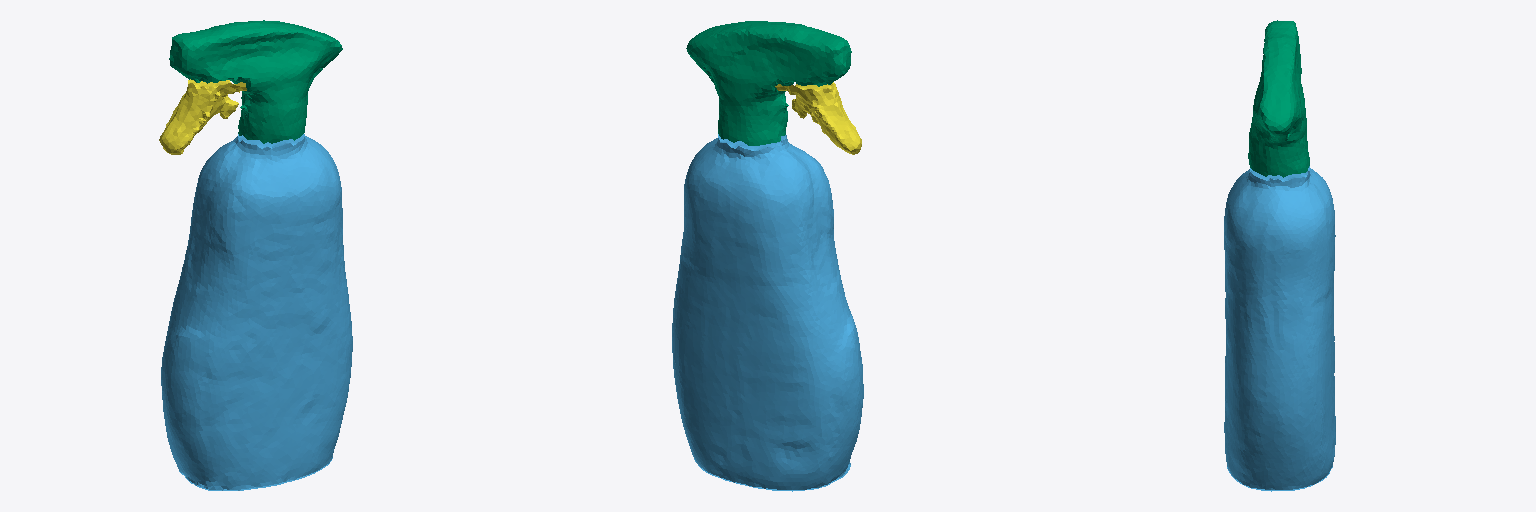
URDF robot description (object):
<?xml version='1.0' encoding='utf-8'?>
<robot name="object">
  <link name="base">
    <inertial>
      <origin xyz="0 0 0" rpy="0 0 0" />
      <mass value="0.0" />
      <inertia ixx="0" ixy="0" ixz="0" iyy="0" iyz="0" izz="0" />
    </inertial>
  </link>
  <link name="link_1">
    <visual>
      <origin xyz="0 0 0" rpy="0 0 0" />
      <geometry>
        <mesh filename="meshes/link_1.stl" />
      </geometry>
    </visual>
    <collision>
      <origin xyz="0 0 0" rpy="0 0 0" />
      <geometry>
        <mesh filename="meshes/link_1.stl" />
      </geometry>
    </collision>
    <inertial>
      <origin xyz="0.0173071256 -0.00129664342 0.316234422" rpy="0 0 0" />
      <mass value="43.5358565" />
      <inertia ixx="-0.325437105" ixy="0.00277721587" ixz="-0.00704071024" iyy="-0.121403717" iyz="0.000782956687" izz="0.506822194" />
    </inertial>
  </link>
  <link name="link_2">
    <visual>
      <origin xyz="-0.0441173237 0.00179261475 -0.706526953" rpy="0 0 0" />
      <geometry>
        <mesh filename="meshes/link_2.stl" />
      </geometry>
    </visual>
    <collision>
      <origin xyz="-0.0441173237 0.00179261475 -0.706526953" rpy="0 0 0" />
      <geometry>
        <mesh filename="meshes/link_2.stl" />
      </geometry>
    </collision>
    <inertial>
      <origin xyz="-0.019680273 -0.000944987298 3.68021151" rpy="0 0 0" />
      <mass value="3.69457185" />
      <inertia ixx="-21362.3658" ixy="0.000688798082" ixz="7.36049386" iyy="-21362.3466" iyz="0.046448535" izz="0.0246359082" />
    </inertial>
  </link>
  <link name="link_3">
    <visual>
      <origin xyz="0.0553239949 0.00216212618 -0.846435305" rpy="0 0 0" />
      <geometry>
        <mesh filename="meshes/link_3.stl" />
      </geometry>
    </visual>
    <collision>
      <origin xyz="0.0553239949 0.00216212618 -0.846435305" rpy="0 0 0" />
      <geometry>
        <mesh filename="meshes/link_3.stl" />
      </geometry>
    </collision>
    <inertial>
      <origin xyz="-0.069165509 0.00127877611 -0.0516825515" rpy="0 0 0" />
      <mass value="0.524493621" />
      <inertia ixx="0.000765516748" ixy="2.05392781e-05" ixz="-0.000457520652" iyy="0.00128942165" iyz="-7.2314641e-07" izz="0.000816878989" />
    </inertial>
  </link>
  <joint name="joint_1_2" type="revolute">
    <parent link="link_1" />
    <child link="link_2" />
    <origin xyz="0.0441173237 -0.00179261475 0.706526953" rpy="0 0 0" />
    <axis xyz="0.00672504529 0.00165376553 -0.999976019" />
    <limit lower="-1.57" upper="1.57" effort="10.0" velocity="1.0" />
  </joint>
  <joint name="joint_2_3" type="revolute">
    <parent link="link_2" />
    <child link="link_3" />
    <origin xyz="-0.0994413185 -0.000369511423 0.139908352" rpy="0 0 0" />
    <axis xyz="-0.00965232704 0.999945316 0.00402450058" />
    <limit lower="-1.57" upper="1.57" effort="10.0" velocity="1.0" />
  </joint>
  <joint name="base_to_1" type="fixed">
    <parent link="base" />
    <child link="link_1" />
    <origin xyz="0 0 0" rpy="0 0 0" />
  </joint>
</robot>

--- Facts derived from the render (not from the file) ---
Views: 3 orthographic renders of the robot side by side, from view 1: azimuth 30°, elevation 25°; view 2: azimuth 150°, elevation 25°; view 3: azimuth 270°, elevation 25°.
Robot: object — 4 links, 3 joints (2 revolute, 1 fixed); root link base; default pose: all joints at 0.
Visible links, largest first — view 1: link_1, link_2, link_3; view 2: link_1, link_2, link_3; view 3: link_1, link_2.
Link boxes in pixels (x1=…): link_1: x1=161, y1=134, x2=352, y2=490; link_2: x1=169, y1=20, x2=342, y2=143; link_3: x1=159, y1=79, x2=246, y2=154; link_1: x1=672, y1=134, x2=863, y2=491; link_2: x1=686, y1=21, x2=851, y2=145; link_3: x1=775, y1=82, x2=861, y2=154; link_1: x1=1224, y1=166, x2=1335, y2=491; link_2: x1=1248, y1=20, x2=1309, y2=177.
Bounding box of the posed robot: 0.4138 × 0.2367 × 0.9584 m (x, y, z).
Meshes: 3 distinct files referenced, 3 mesh visuals loaded (3 binary STL).
